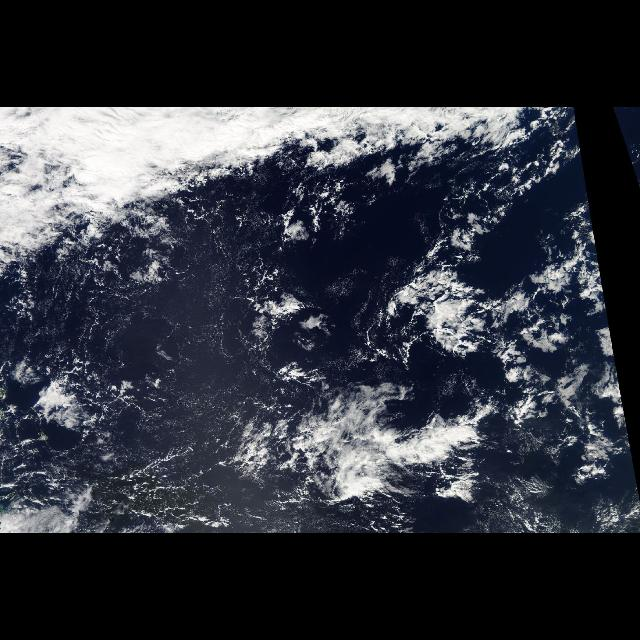Sugar: (124, 301, 246, 425)
